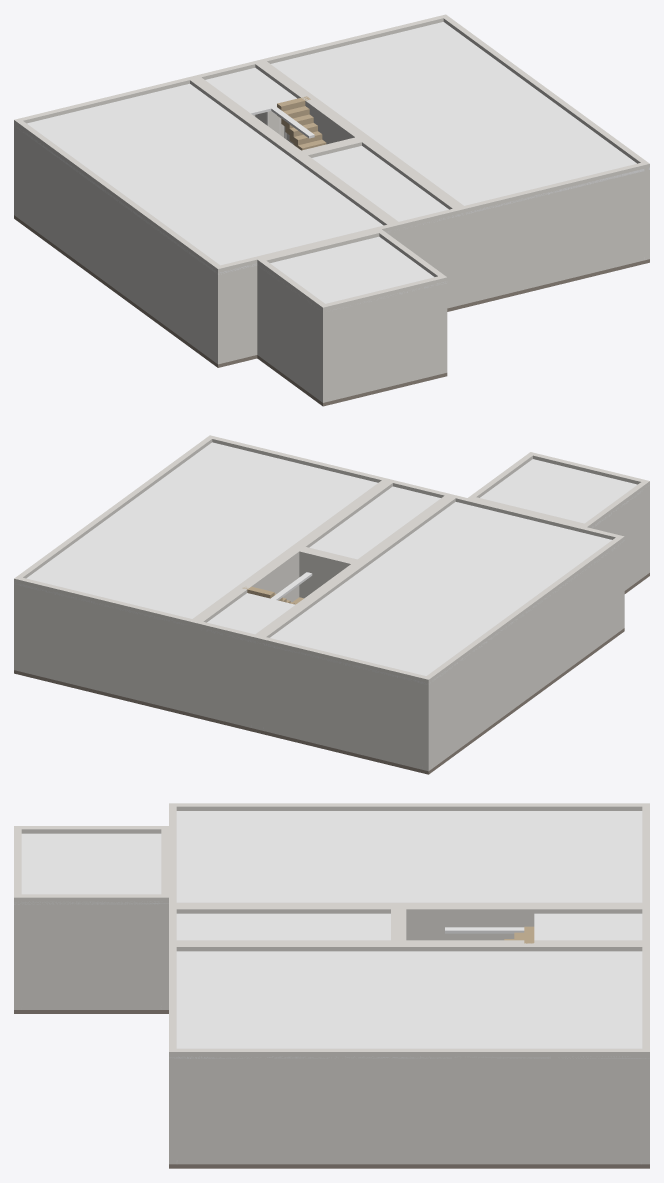
The model's file is interior-basement.glb.
3 views of the same model, one above another, from view 1: azimuth 30°, elevation 25°; view 2: azimuth 150°, elevation 25°; view 3: azimuth 270°, elevation 25° (orthographic). The views are drawn at different scales.
Parts seen in each view (by area): view 1: interior-basement; view 2: interior-basement; view 3: interior-basement.
Part boxes in pixels (<box>): interior-basement: <box>14,14,649,406</box>; interior-basement: <box>14,435,649,774</box>; interior-basement: <box>14,803,649,1168</box>.
Size of the model in its own units: 15.18 by 3.42 by 16.42.
